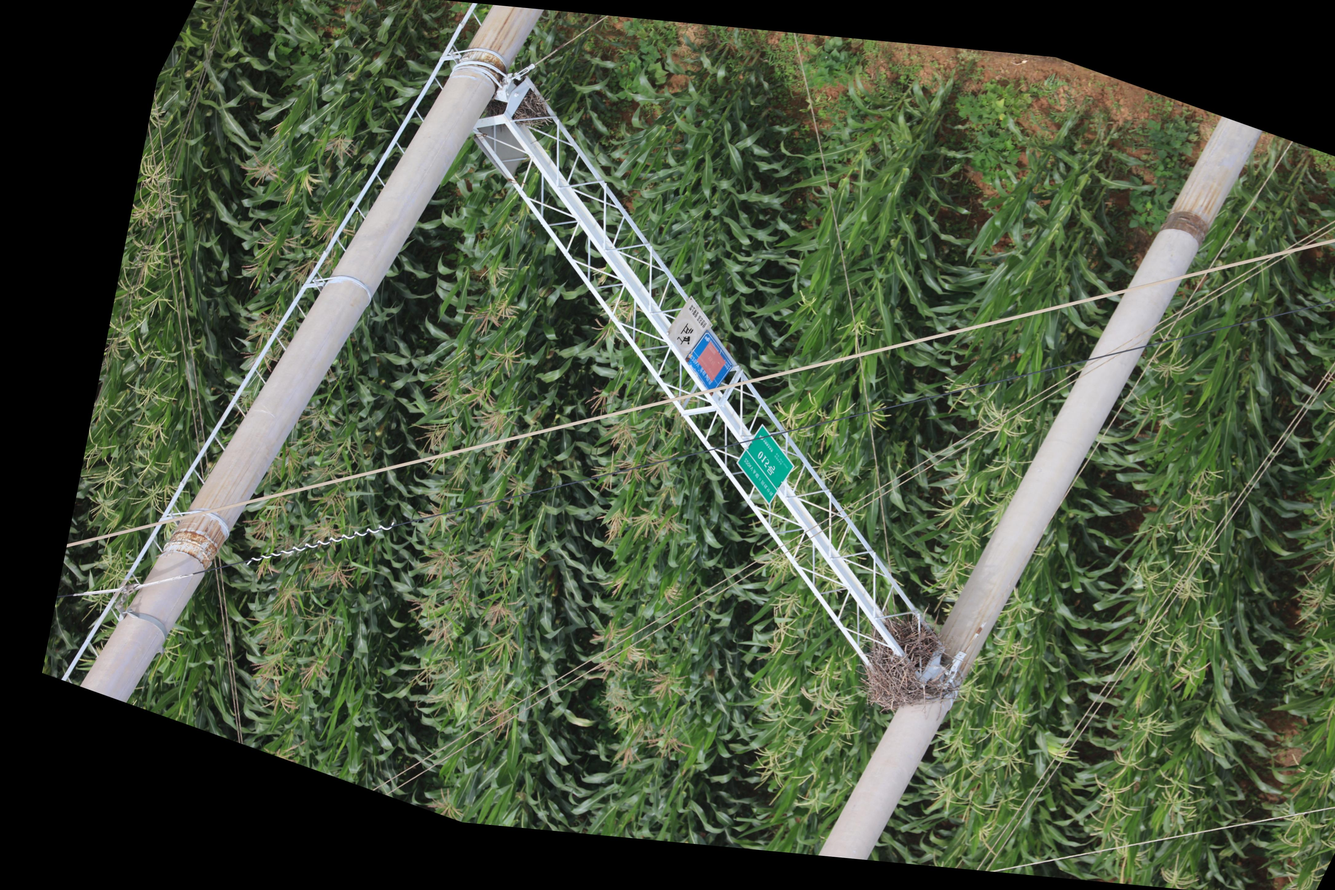damper_defect: (0, 523, 44, 585)
